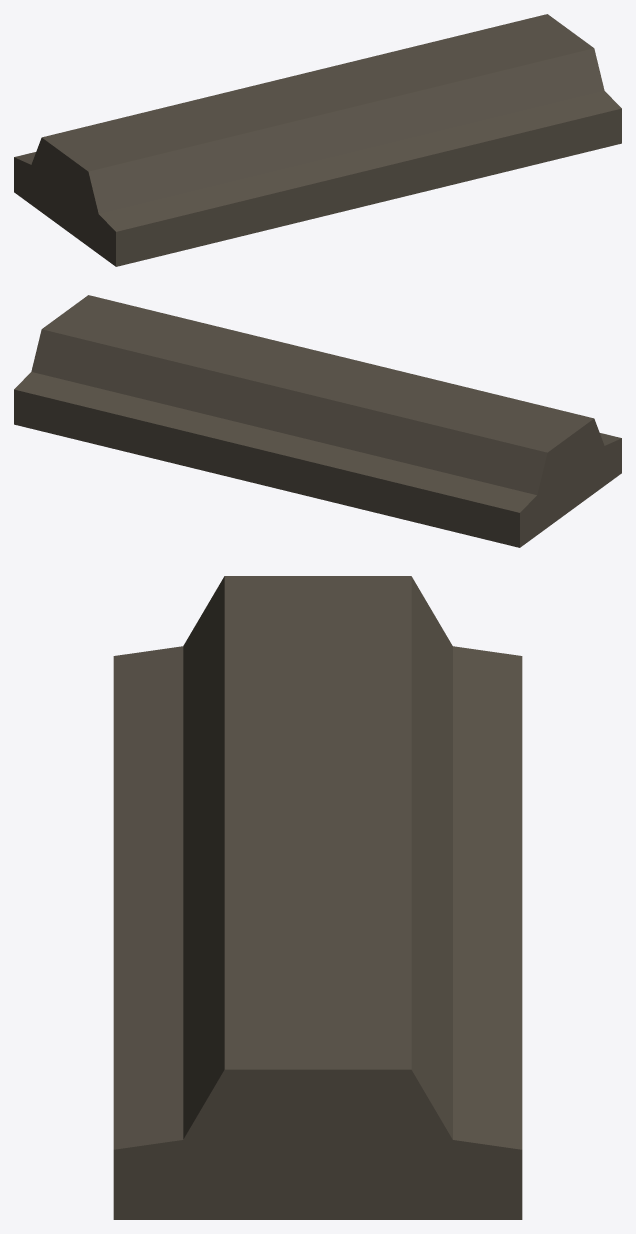
Rendered from samurai_SM_Bld_Base_Roof_Cap_Half_01.gltf.
The picture shows the model from 3 angles, top to bottom: view 1: azimuth 30°, elevation 25°; view 2: azimuth 150°, elevation 25°; view 3: azimuth 270°, elevation 25°; orthographic projection. The views are drawn at different scales.
Visible parts, largest first — view 1: SM_Bld_Base_Roof_Cap_Half_01; view 2: SM_Bld_Base_Roof_Cap_Half_01; view 3: SM_Bld_Base_Roof_Cap_Half_01.
Part boxes in pixels (x1,y1,x2,y2): SM_Bld_Base_Roof_Cap_Half_01: [14, 14, 621, 266]; SM_Bld_Base_Roof_Cap_Half_01: [14, 295, 621, 547]; SM_Bld_Base_Roof_Cap_Half_01: [113, 576, 522, 1219].
Size of the model in its own units: 1.25 by 0.1772 by 0.437.
1 material, 1 textured.
